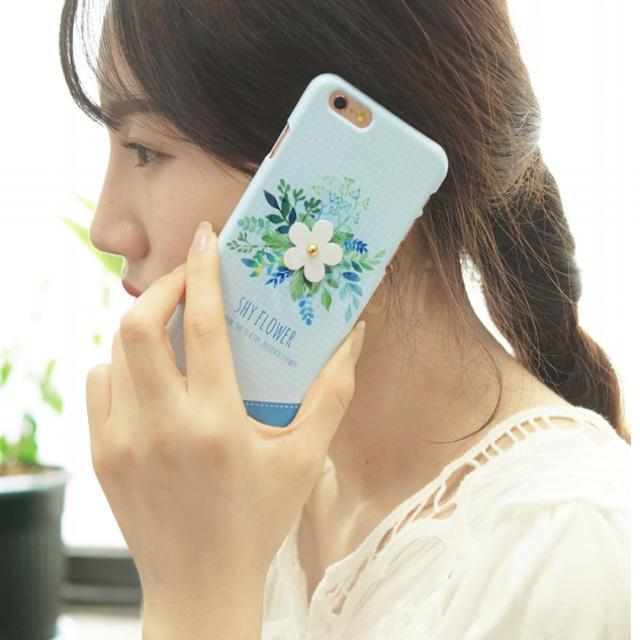phone: (152, 74, 450, 447)
